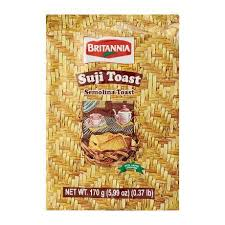Britania-toast-med: (47, 15, 179, 210)
